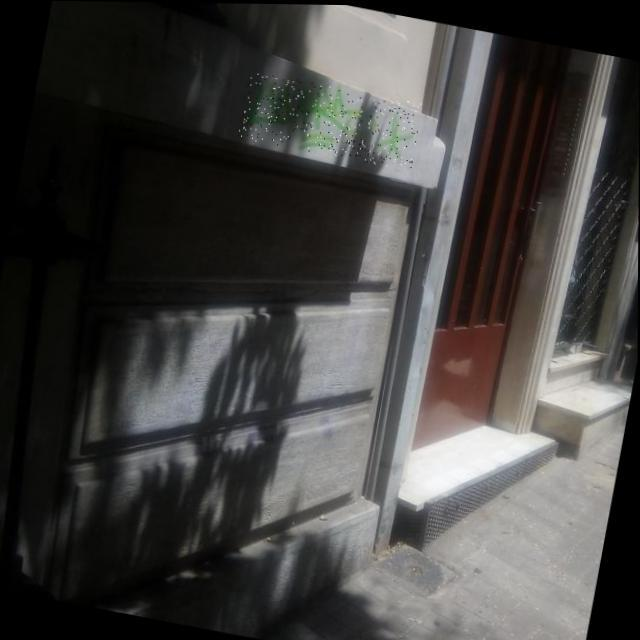-: (237, 70, 423, 170)
